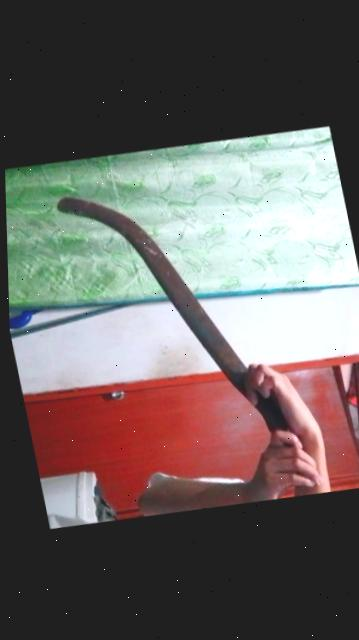long knife: (49, 162, 306, 505)
